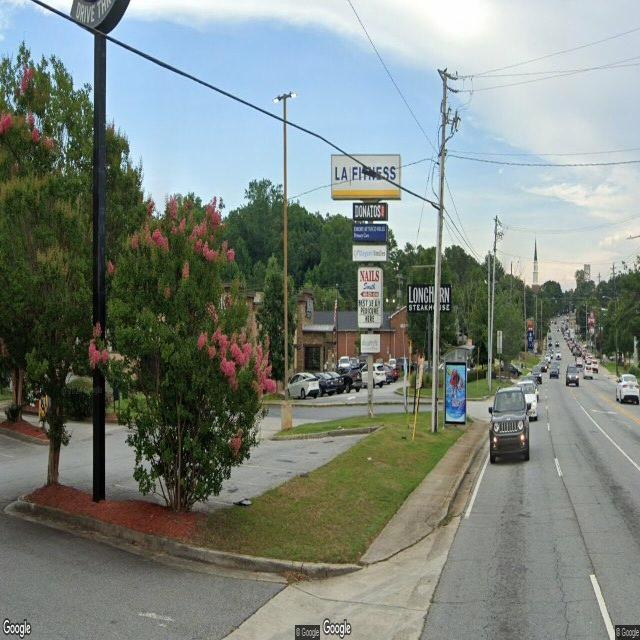shelter: (440, 345, 478, 432)
